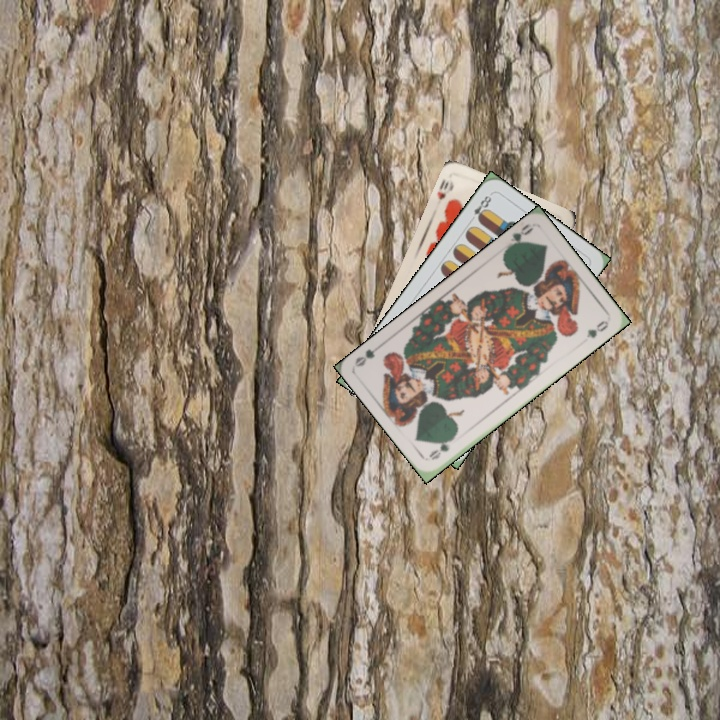E8: (465, 191, 494, 225)
GO: (502, 220, 536, 253), (424, 431, 458, 463)
H10: (433, 175, 456, 203)
